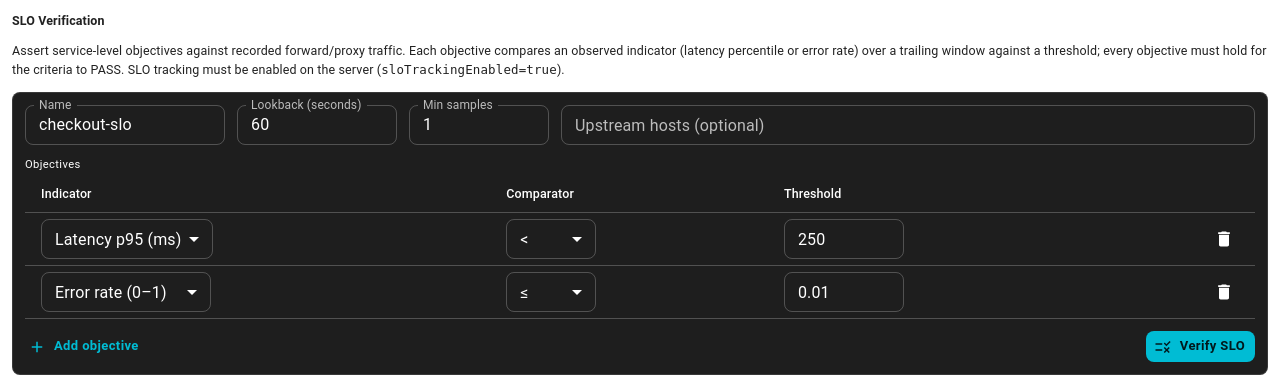
SloPanel › disables Verify and never submits when the lookback is zero/empty
Clear the number field named "Lookback window in seconds" at (317,124), box [237,104,397,144]
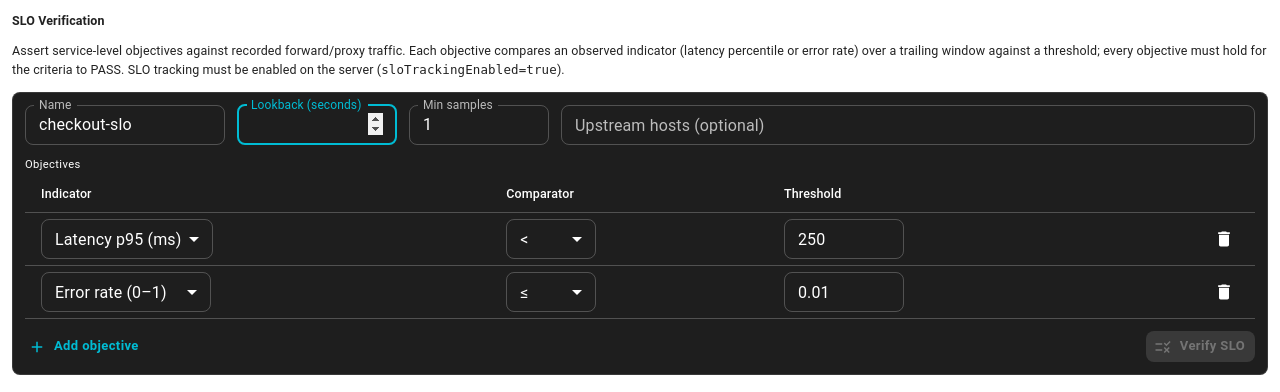
Check: the button "Verify SLO" is disabled, box [1146,331,1255,362]
